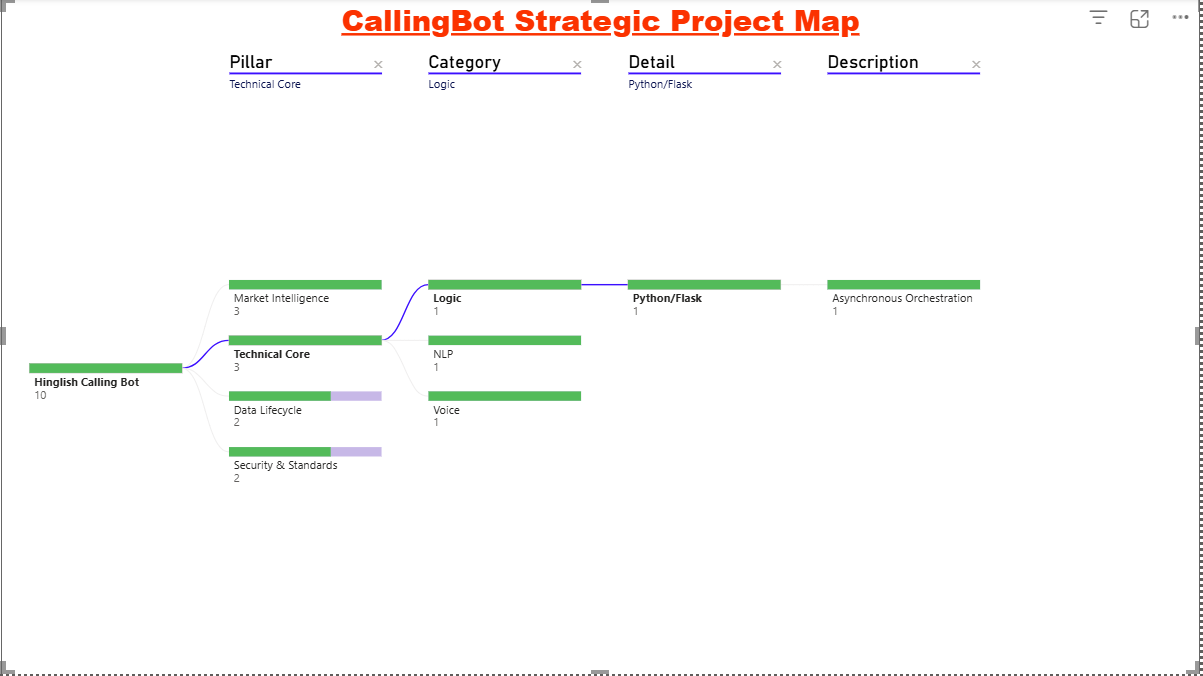

Layout of this report page (visuals, bound fields, positions):
{"tool":"powerbi","page":{"name":"Page 1","canvas":[1280,720],"ordinal":0},"visuals":[{"type":"decompositionTreeVisual","title":"CallingBot Strategic Project Map","fields":{"Analyze":["CountNonNull(Sheet1.Project)"],"ExplainBy":["Sheet1.Pillar","Sheet1.Category","Sheet1.Detail","Sheet1.Description"]},"box":[3,0,1277,720],"z":0}]}

Visuals, with their boxes on the page's 1280x720 design canvas (x1, y1, x2, y2). These are canvas units, not pixel positions in the 1203x676 screenshot, which may show the page scaled, cropped or inside an application window:
"CallingBot Strategic Project Map" decompositionTreeVisual: select_region(3, 0, 1280, 720)
